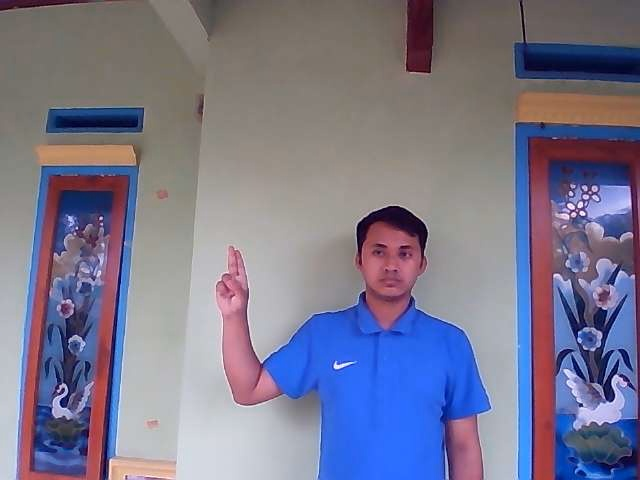U: (214, 245, 251, 315)
